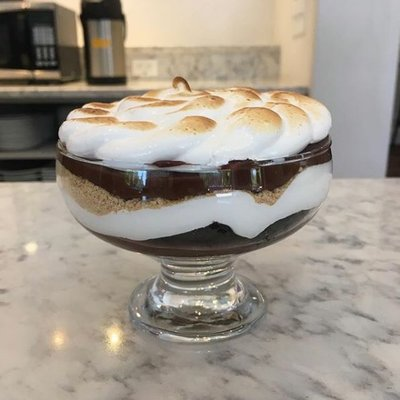burger: (81, 0, 127, 85)
curry: (5, 171, 399, 399)
sandwich: (58, 75, 337, 250)
